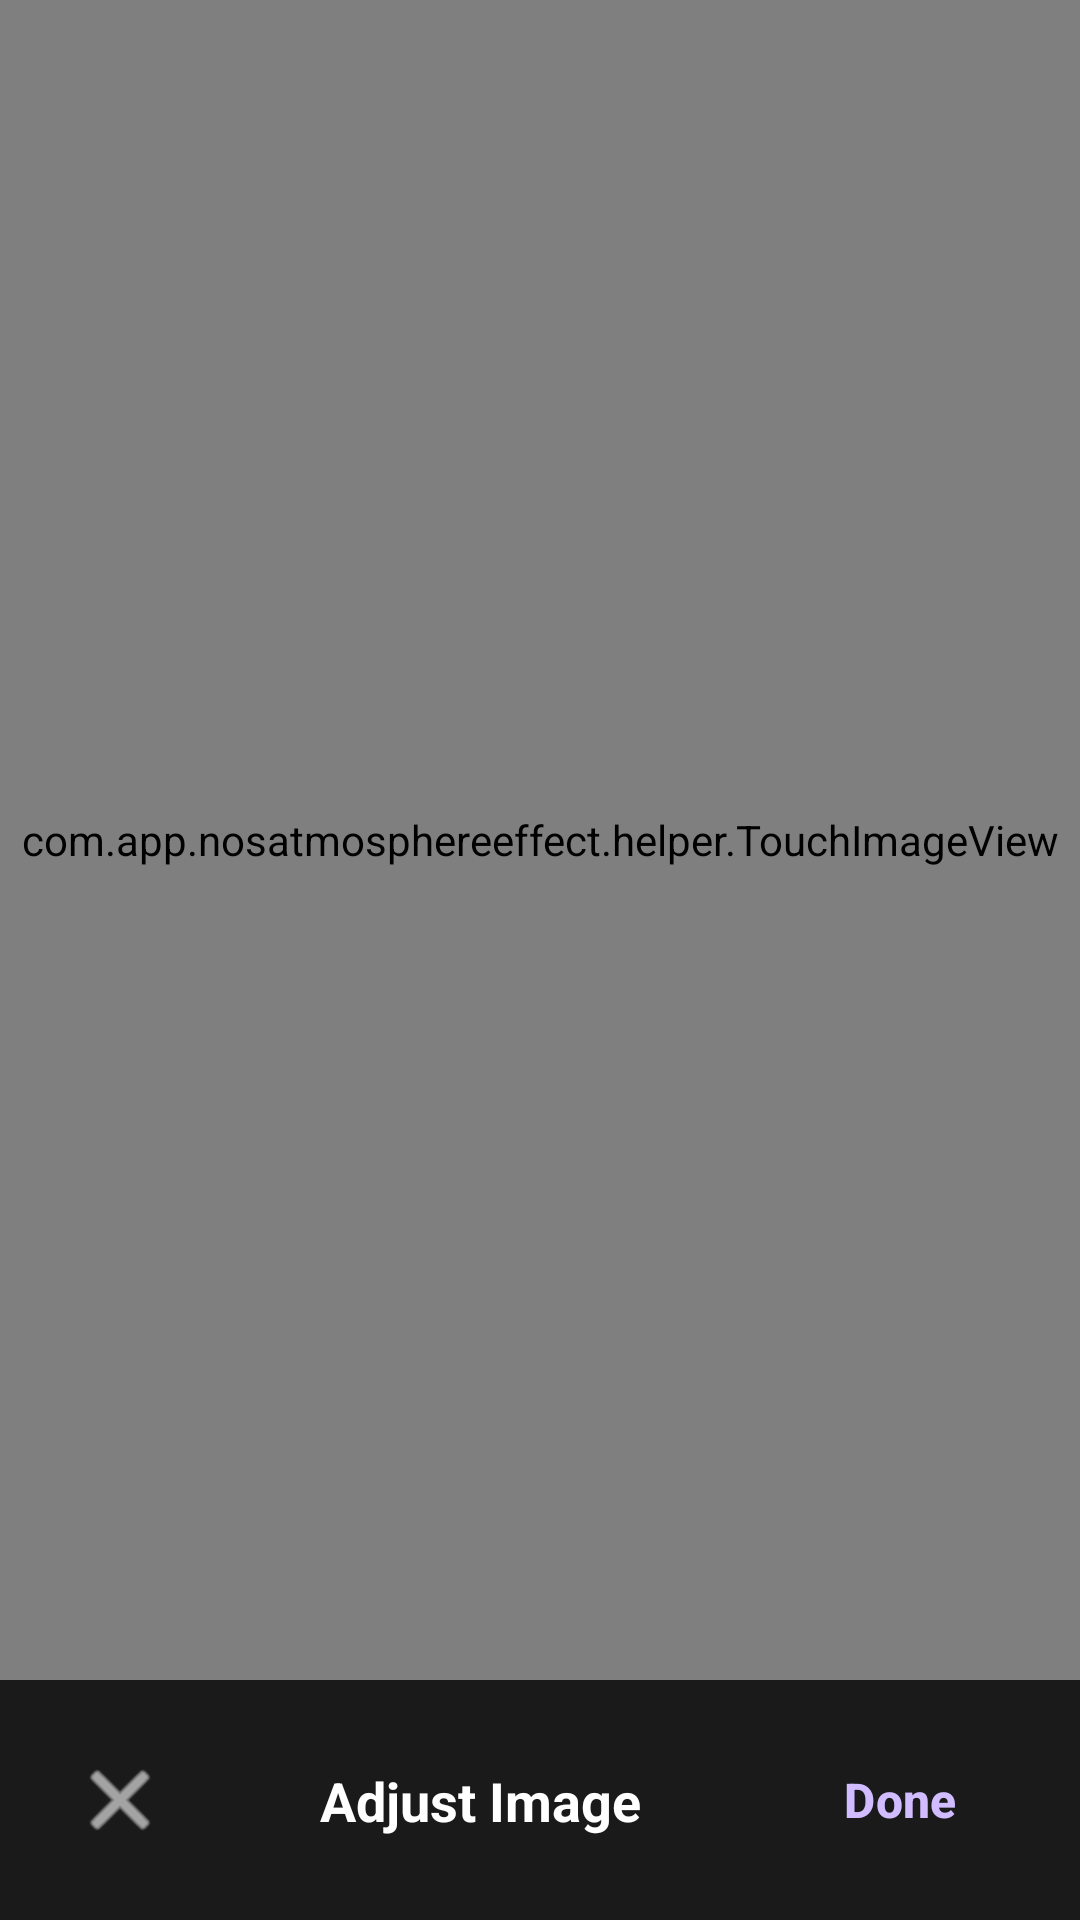

Screen size 1080 × 1920. Icon name, then its box in pixels as (x1, y1, x2, y2):
close clear cancel: (90, 1770, 150, 1830)
